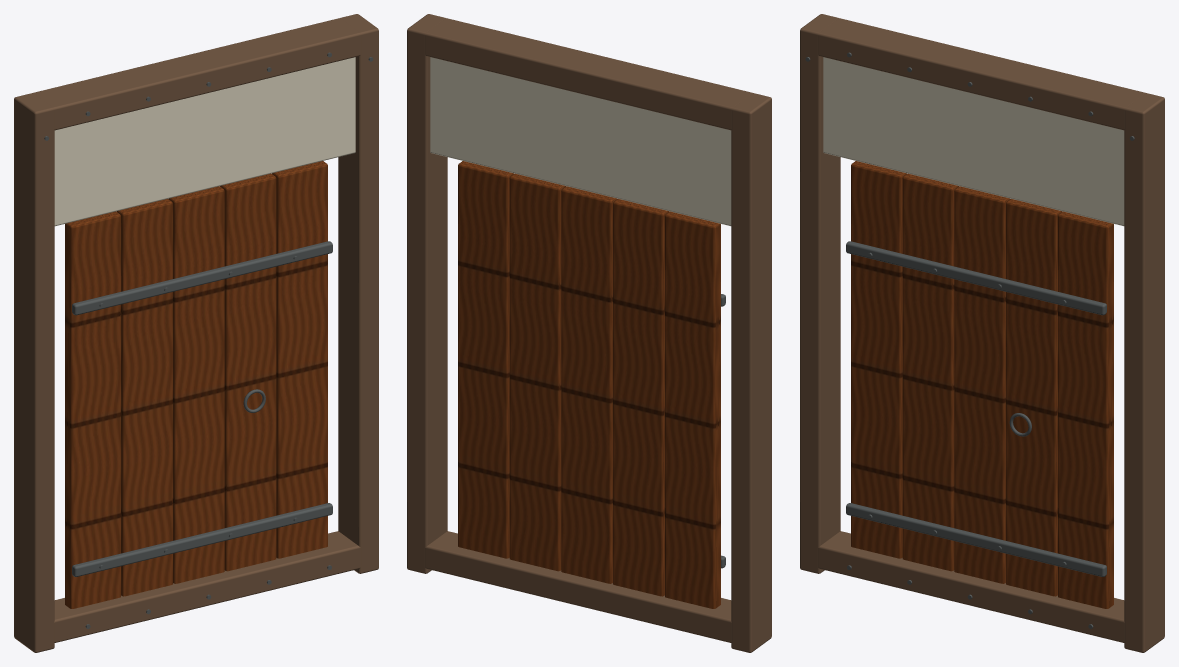
Rendered from adventurers-tavern-and-guild-hall-doorway-with-door-3b0e2107__24668.glb.
The picture shows the model from 3 angles, left to right: view 1: azimuth 30°, elevation 25°; view 2: azimuth 150°, elevation 25°; view 3: azimuth 330°, elevation 25°; orthographic projection.
Parts seen in each view (by area): view 1: door-1 (×2), doorway-with-door; view 2: door-1, doorway-with-door; view 3: door-1 (×2), doorway-with-door.
Boxes of the visible parts, box(x1,y1,x2,y2) form: door-1 (×2): box(65, 161, 332, 608); doorway-with-door: box(14, 14, 378, 652); door-1: box(458, 161, 720, 608); doorway-with-door: box(407, 14, 771, 652); door-1 (×2): box(846, 161, 1113, 608); doorway-with-door: box(800, 14, 1164, 652).
Size of the model in its own units: 2 by 3 by 0.2391.
Materials: 4 (1 with a texture image).
